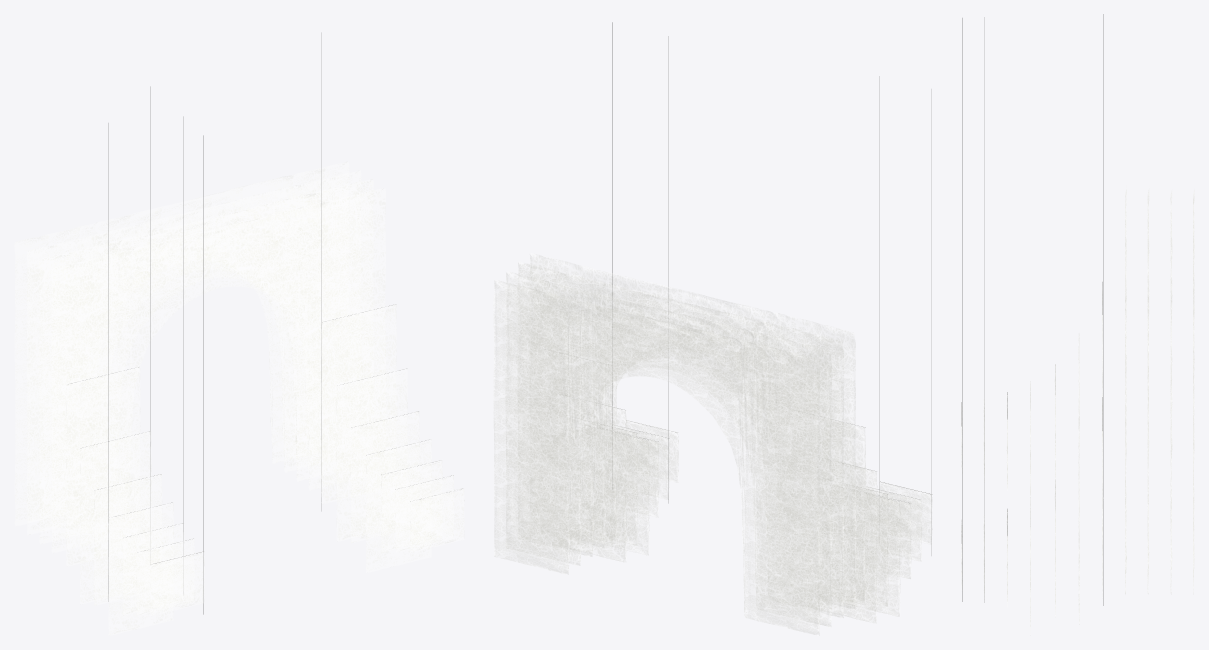
Rendered from fat.glb.
3 views of the same model, side by side, from view 1: azimuth 30°, elevation 25°; view 2: azimuth 150°, elevation 25°; view 3: azimuth 270°, elevation 25° (orthographic). The views are drawn at different scales.
Parts seen in each view (by area): view 1: Plane.018, Plane.003, Plane.001, Plane.019, Plane.005, Plane.004, Plane.016, Plane.017, Plane.006, Plane.015, Plane.007, Plane.014 (+6 smaller); view 2: Plane.019, Plane.001, Plane.003, Plane.018, Plane.004, Plane.017, Plane.016, Plane.005, Plane.014, Plane.015, Plane.007, Plane.006 (+6 smaller); view 3: Plane.001, Plane.003, Plane.018, Plane.019, Cylinder.030, Cylinder.024, Cylinder.025.
Boxes of the visible parts, x1=… form: Plane.018: x1=51, y1=188, x2=385, y2=552; Plane.003: x1=39, y1=179, x2=373, y2=544; Plane.001: x1=27, y1=170, x2=360, y2=534; Plane.019: x1=14, y1=161, x2=348, y2=526; Plane.005: x1=321, y1=304, x2=396, y2=503; Plane.004: x1=66, y1=367, x2=140, y2=566; Plane.016: x1=336, y1=369, x2=407, y2=541; Plane.017: x1=80, y1=431, x2=151, y2=604; Plane.006: x1=351, y1=412, x2=419, y2=542; Plane.015: x1=366, y1=439, x2=431, y2=572; Plane.007: x1=94, y1=474, x2=162, y2=605; Plane.014: x1=108, y1=502, x2=173, y2=635; Plane.019: x1=493, y1=280, x2=819, y2=635; Plane.001: x1=506, y1=272, x2=831, y2=626; Plane.003: x1=518, y1=262, x2=843, y2=617; Plane.018: x1=530, y1=253, x2=855, y2=609; Plane.004: x1=834, y1=420, x2=865, y2=604; Plane.017: x1=826, y1=467, x2=877, y2=623; Plane.016: x1=576, y1=407, x2=626, y2=562; Plane.005: x1=592, y1=381, x2=616, y2=543; Plane.014: x1=845, y1=496, x2=900, y2=616; Plane.015: x1=595, y1=435, x2=649, y2=555; Plane.007: x1=862, y1=489, x2=888, y2=606; Plane.006: x1=608, y1=428, x2=637, y2=545; Plane.001: x1=1170, y1=191, x2=1172, y2=594; Plane.003: x1=1147, y1=189, x2=1149, y2=593; Plane.018: x1=1125, y1=186, x2=1126, y2=594; Plane.019: x1=1193, y1=190, x2=1194, y2=594; Cylinder.030: x1=1103, y1=163, x2=1103, y2=605; Cylinder.024: x1=984, y1=160, x2=984, y2=602; Cylinder.025: x1=962, y1=159, x2=962, y2=601.
Bounding box in the file's own units: 37.53 × 55.14 × 24.59.
21 materials, 17 textured.
